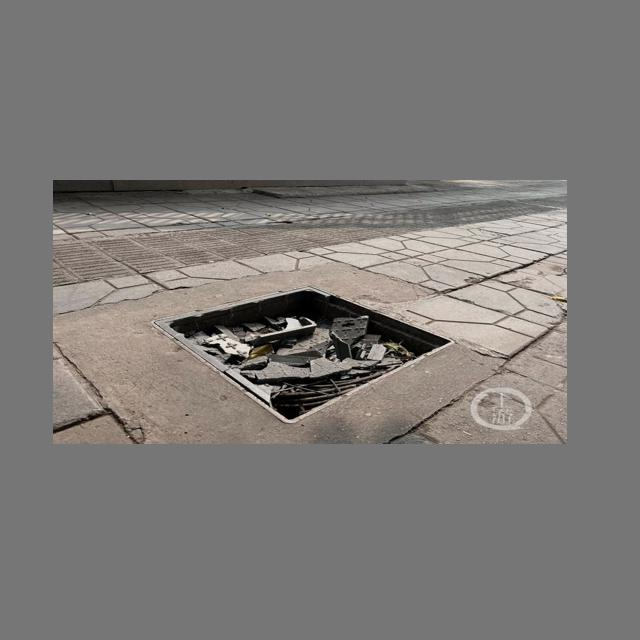broke: (63, 266, 533, 440)
